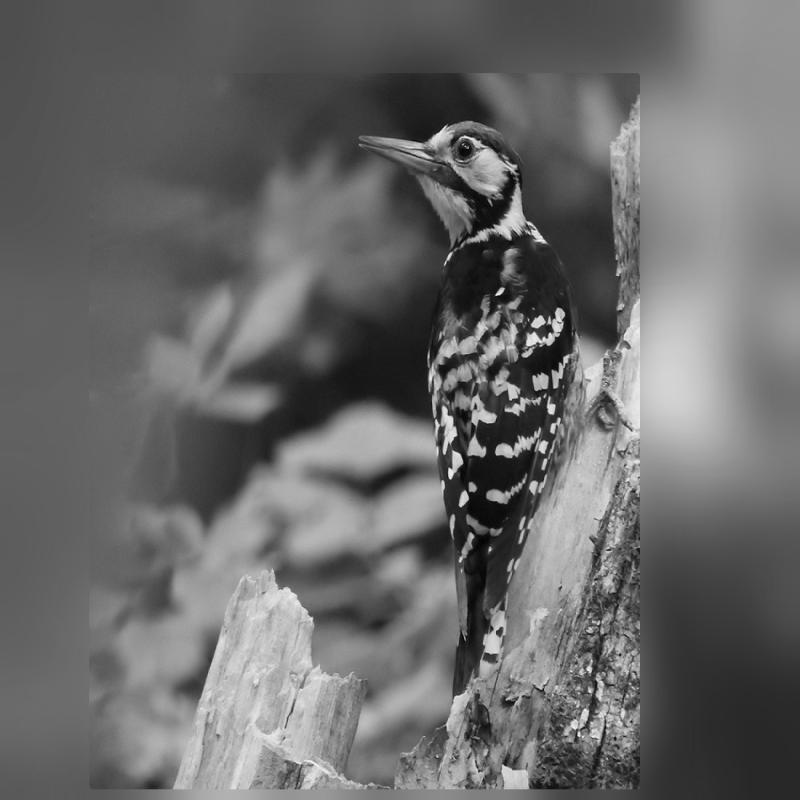white-backed woodpecker: (349, 97, 596, 710)
